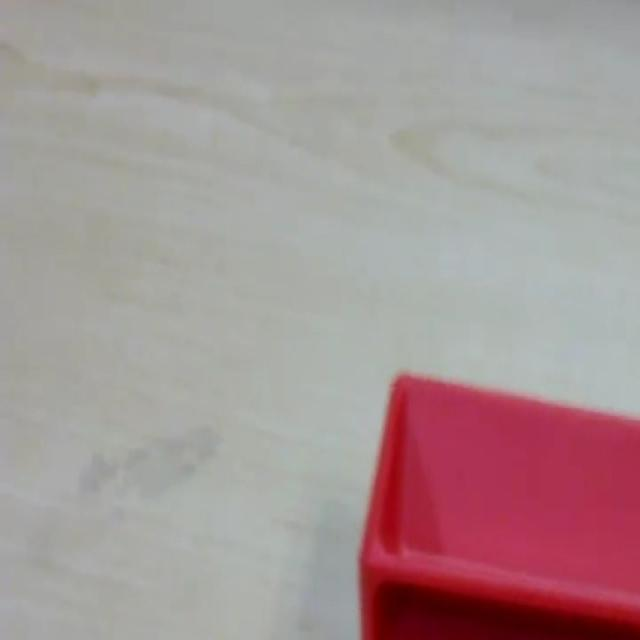red_block: (357, 368, 639, 637)
